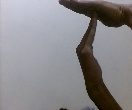hand: (74, 12, 104, 88), (57, 1, 125, 28)
